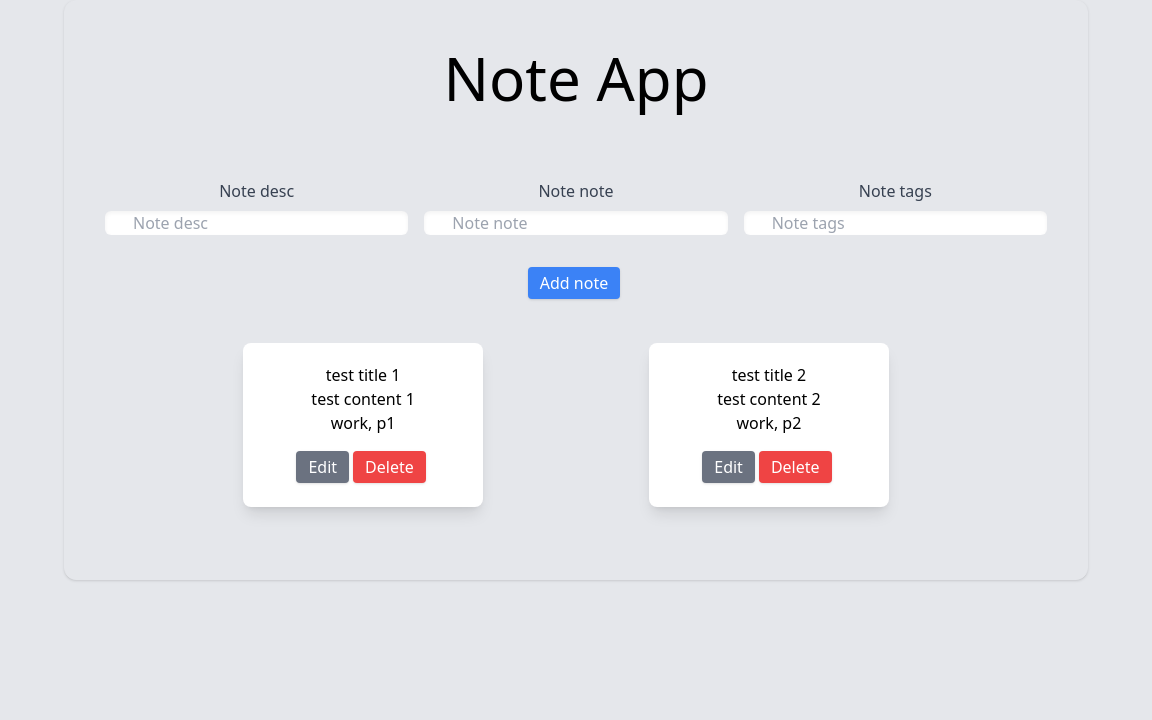
Test case: test the app can do crud functions › Should delete a note
The image size is (1152, 720).
Check: the text "test title 1" is shown 2 times, box left=326, top=364, right=400, bottom=386; left=732, top=364, right=806, bottom=386
Check: the text "test content 1" is shown 2 times, box left=311, top=388, right=415, bottom=410; left=717, top=388, right=821, bottom=410
Click the button "Delete" below "test title 1".
click(389, 467)  # box left=353, top=451, right=426, bottom=483
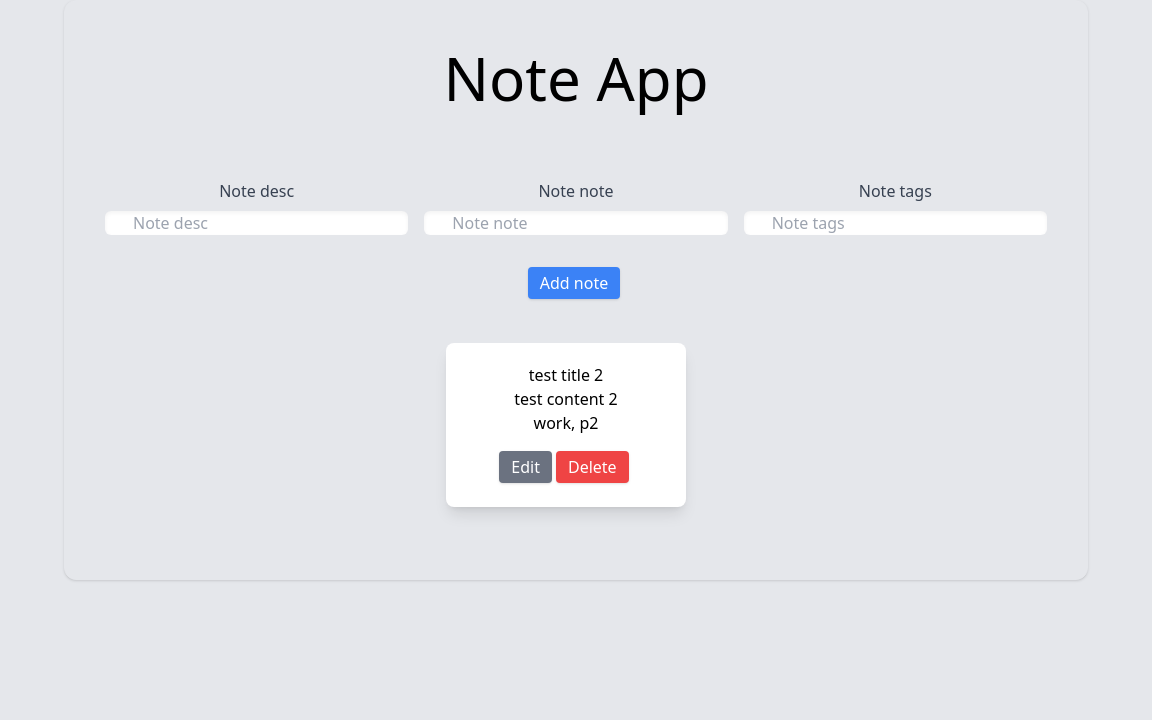
Check: the text "test title 1" is gone
Check: the text "test content 1" is gone
